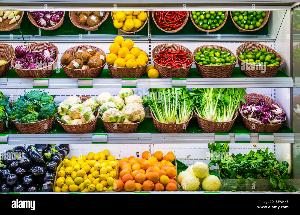bell_pepper: (154, 44, 192, 74), (152, 8, 189, 34)
eggplant: (0, 141, 68, 193)
lemon: (58, 152, 118, 192), (106, 37, 150, 73), (110, 8, 150, 36)
lime: (238, 44, 286, 72), (194, 45, 236, 72), (230, 8, 270, 32), (190, 10, 229, 34)
orange: (117, 152, 177, 192)
